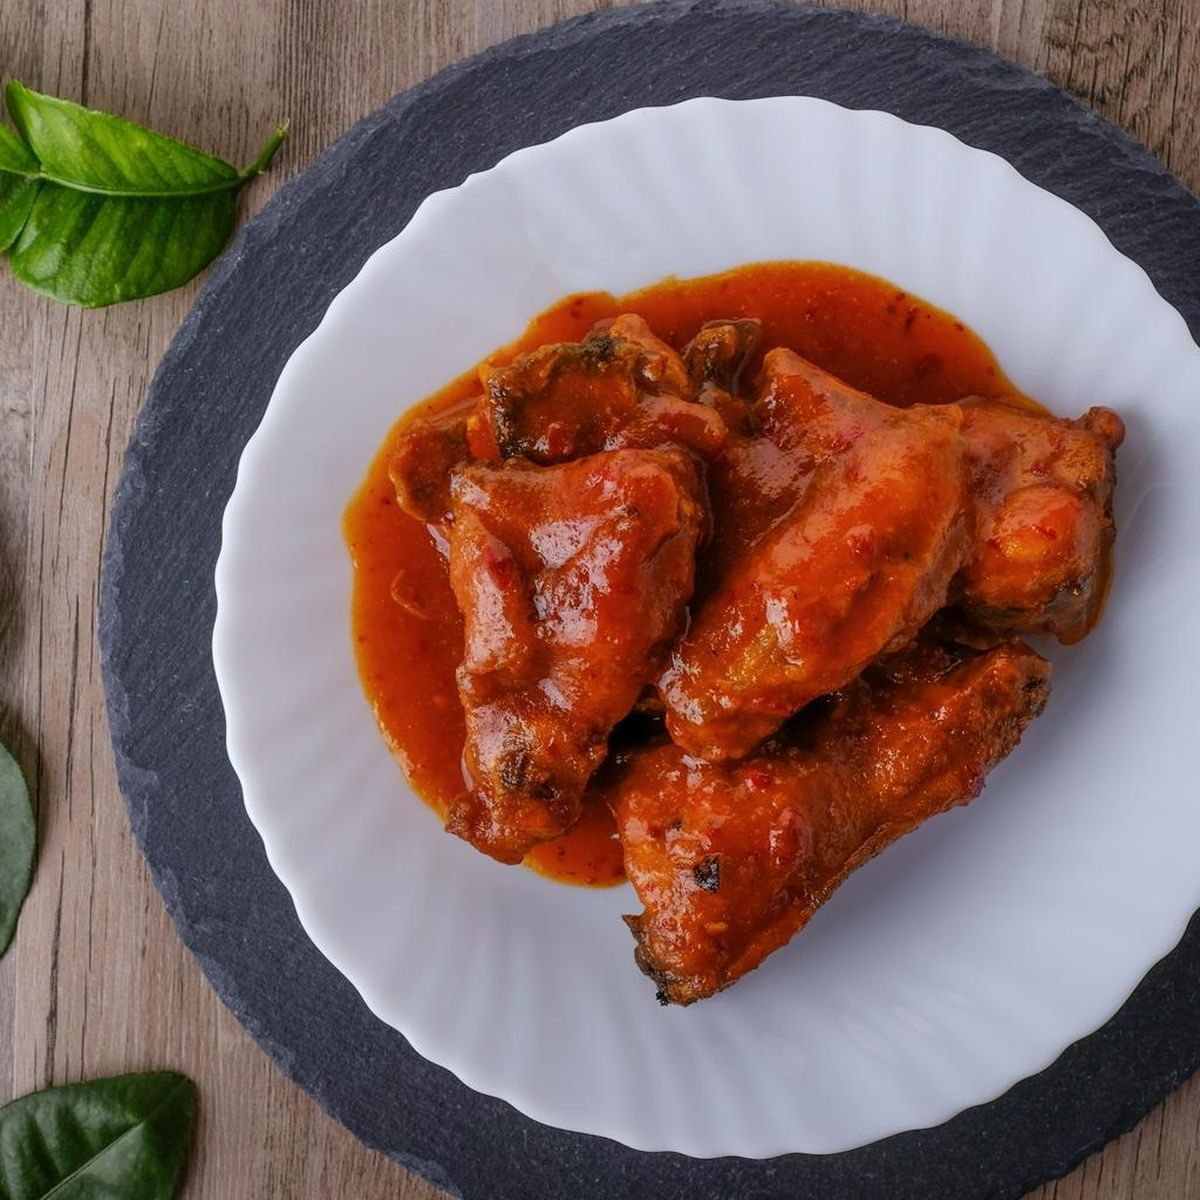Ayam: (562, 655, 1055, 1038), (656, 373, 1042, 727), (435, 411, 726, 822)
